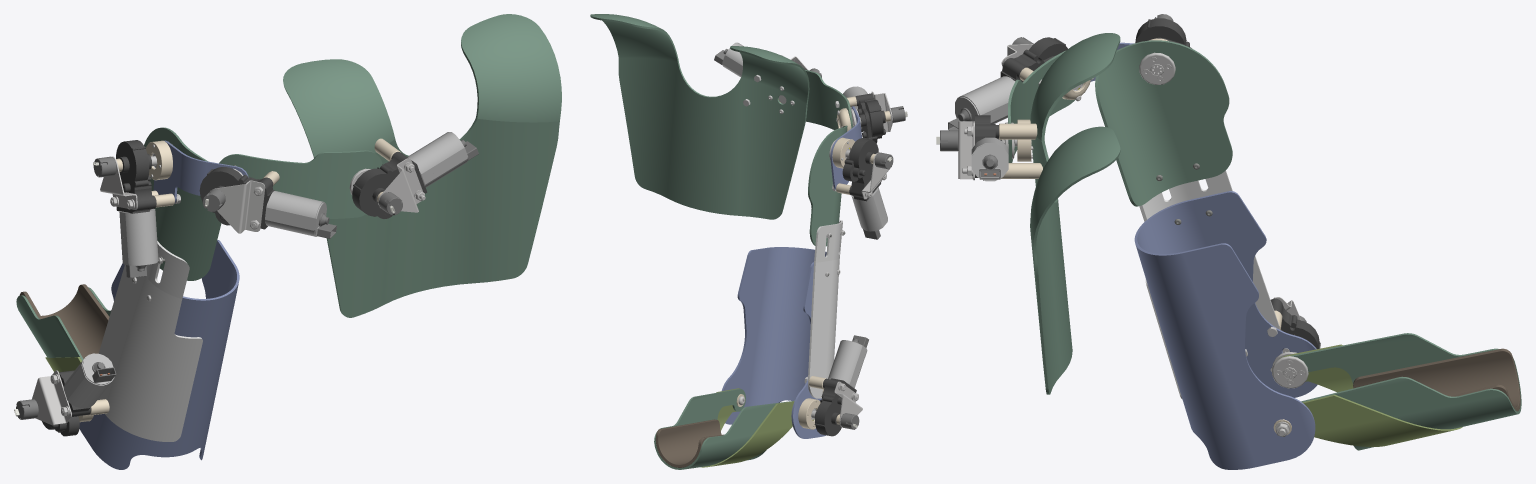
The model's file is Exoschelet.fbx.
The picture shows the model from 3 angles, left to right: view 1: azimuth 30°, elevation 25°; view 2: azimuth 150°, elevation 25°; view 3: azimuth 270°, elevation 25°; orthographic projection. The views are drawn at different scales.
Parts seen in each view (by area): view 1: Exoschelet:Solid36, Exoschelet:Solid81, Exoschelet:Solid80, Exoschelet:Solid37, Exoschelet:Solid86, Exoschelet:Solid95, Exoschelet:Solid139, Exoschelet:Solid40, Exoschelet:Solid1, Exoschelet:Solid96, Exoschelet:Solid93, Exoschelet:Solid61 (+8 smaller); view 2: Exoschelet:Solid36, Exoschelet:Solid80, Exoschelet:Solid81, Exoschelet:Solid93, Exoschelet:Solid86, Exoschelet:Solid95, Exoschelet:Solid94, Exoschelet:Solid37, Exoschelet:Solid96, Exoschelet:Solid41, Exoschelet:Solid40, Exoschelet:Solid97 (+9 smaller); view 3: Exoschelet:Solid80, Exoschelet:Solid86, Exoschelet:Solid36, Exoschelet:Solid93, Exoschelet:Solid94, Exoschelet:Solid95, Exoschelet:Solid81, Exoschelet:Solid139, Exoschelet:Solid37, Exoschelet:Solid1, Exoschelet:Solid14, Exoschelet:Solid141 (+4 smaller).
Boxes of the visible parts, x1,y1,x2,y2 form: Exoschelet:Solid36: (283,14,561,317); Exoschelet:Solid81: (98,241,202,441); Exoschelet:Solid80: (79,240,239,469); Exoschelet:Solid37: (219,150,382,218); Exoschelet:Solid86: (144,127,221,280); Exoschelet:Solid95: (19,284,109,358); Exoschelet:Solid139: (265,191,336,238); Exoschelet:Solid40: (119,209,158,277); Exoschelet:Solid1: (407,132,478,187); Exoschelet:Solid96: (63,353,116,408); Exoschelet:Solid93: (16,287,111,360); Exoschelet:Solid61: (153,140,248,202); Exoschelet:Solid36: (590,14,809,219); Exoschelet:Solid80: (721,247,826,438); Exoschelet:Solid81: (808,220,842,398); Exoschelet:Solid93: (654,389,794,469); Exoschelet:Solid86: (808,125,847,246); Exoschelet:Solid95: (655,419,723,467); Exoschelet:Solid94: (701,388,794,467); Exoschelet:Solid37: (805,70,853,129); Exoschelet:Solid96: (828,335,868,388); Exoschelet:Solid41: (848,138,881,201); Exoschelet:Solid40: (851,187,887,239); Exoschelet:Solid97: (817,379,856,436); Exoschelet:Solid80: (1134,191,1317,469); Exoschelet:Solid86: (1095,40,1232,206); Exoschelet:Solid36: (1030,33,1120,394); Exoschelet:Solid93: (1291,333,1521,450); Exoschelet:Solid94: (1279,344,1462,446); Exoschelet:Solid95: (1353,348,1520,411); Exoschelet:Solid81: (1139,170,1279,398); Exoschelet:Solid139: (948,76,1015,130); Exoschelet:Solid37: (1008,50,1075,162); Exoschelet:Solid1: (971,137,1008,181); Exoschelet:Solid14: (958,121,974,180); Exoschelet:Solid141: (1008,42,1067,82).
Size of the model in its own units: 593 by 547 by 634.
